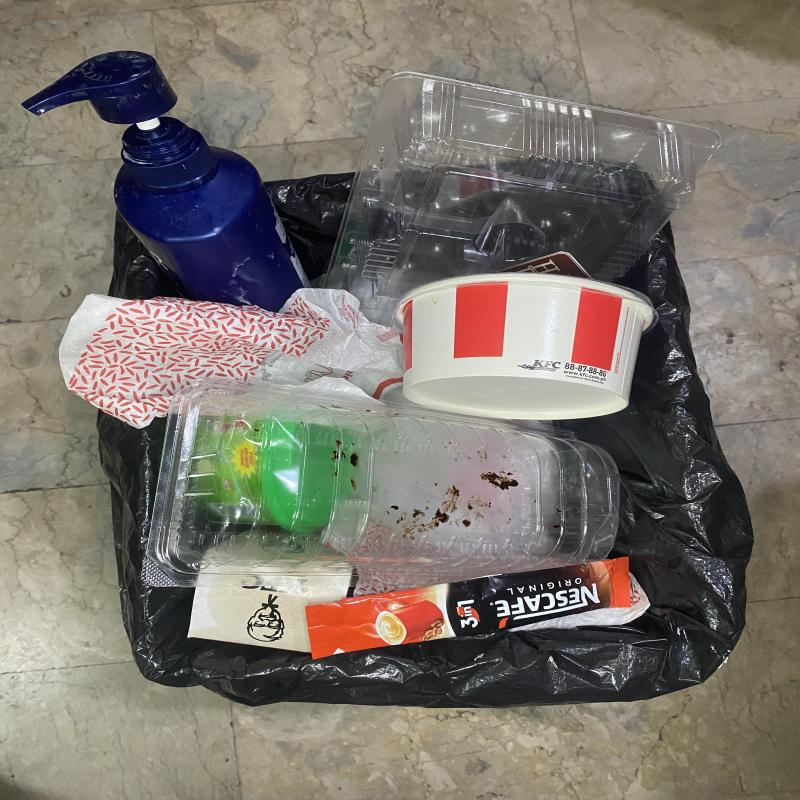cardboard: (394, 273, 656, 422), (189, 529, 356, 652)
paper: (57, 288, 404, 430)
plastic bottle: (21, 50, 306, 313)
plastic container: (330, 72, 723, 328), (143, 379, 620, 588)
plastic sachet: (310, 559, 630, 662)
